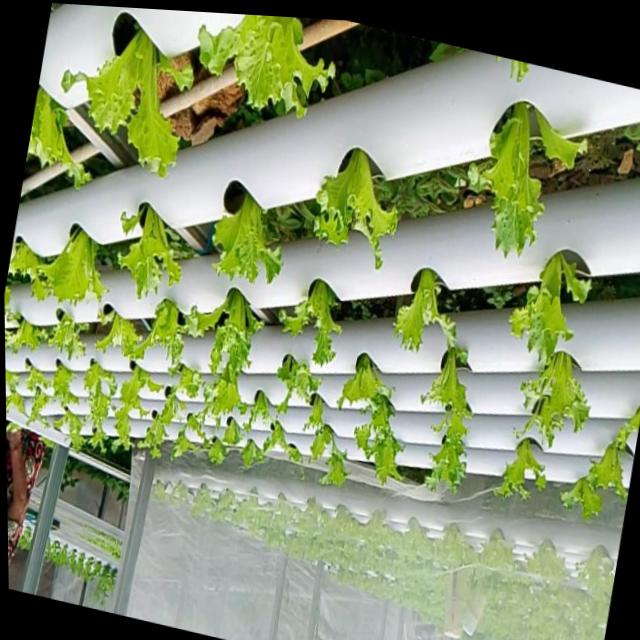Baby: (58, 33, 190, 180), (195, 14, 331, 118), (466, 102, 539, 256), (311, 147, 396, 268), (505, 250, 586, 361), (419, 336, 468, 489), (209, 181, 279, 281), (516, 349, 585, 445), (115, 203, 179, 297), (37, 228, 104, 308), (277, 278, 339, 364), (120, 298, 194, 368), (391, 266, 452, 350), (352, 394, 399, 482), (580, 424, 628, 497), (259, 352, 318, 411), (491, 435, 542, 496), (334, 351, 390, 406), (80, 360, 113, 445), (200, 362, 244, 423), (50, 411, 82, 451), (48, 364, 73, 407), (173, 365, 198, 398), (24, 387, 46, 423), (179, 411, 202, 440)
